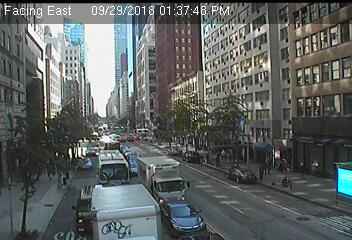car: (88, 185, 160, 240), (136, 157, 189, 207), (72, 187, 112, 235), (160, 200, 207, 235), (97, 149, 131, 191), (225, 168, 256, 184), (103, 142, 120, 159), (129, 160, 141, 178), (182, 151, 198, 163), (79, 158, 91, 170), (167, 148, 181, 157), (85, 147, 97, 157)
